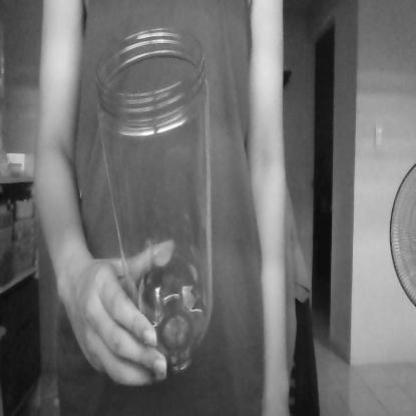Plastic Bottle: (93, 23, 217, 374)
